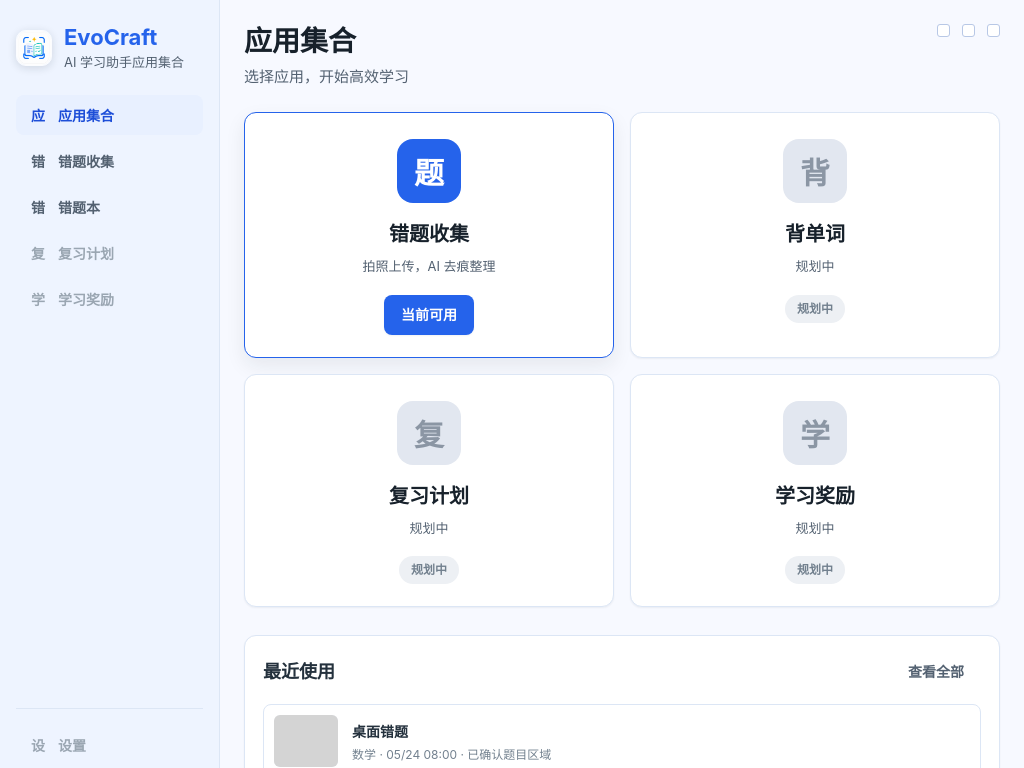
it: App › loads records from the desktop bridge without reading localStorage
Click the button "错 错题本" at (110, 207), box [16,187,203,227]
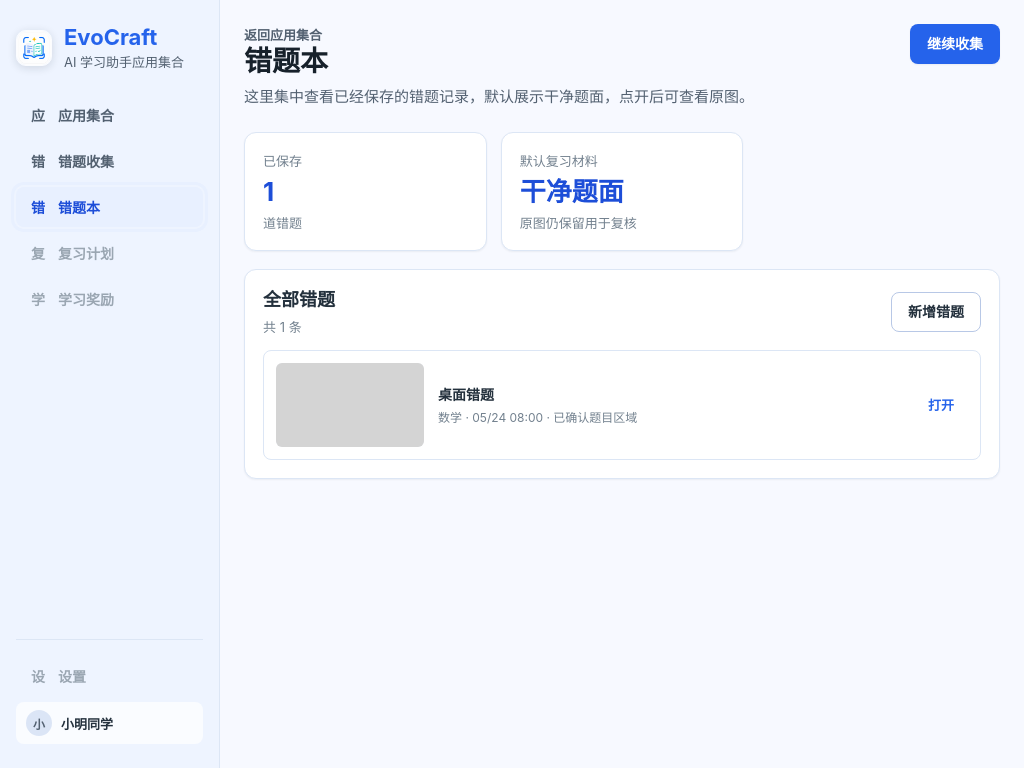
Now the text "共 1 条" is shown, box [263,319,302,335]
Now the button "桌面错题 数学 · 05/24 08:00 · 已确认题目区域 打开" is shown, box [276,363,954,447]
